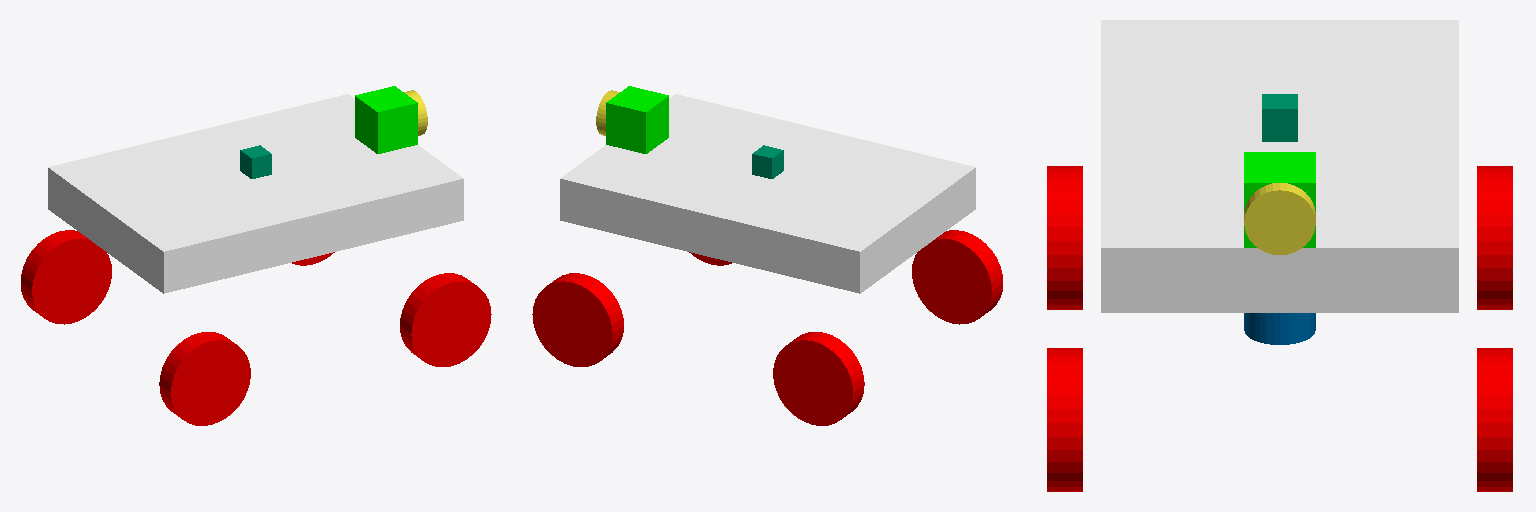
URDF robot description (veerbhadra):
<?xml version="1.0" ?>
<!-- =================================================================================== -->
<!-- |    This document was autogenerated by xacro from veerbhadra.xacro               | -->
<!-- |    EDITING THIS FILE BY HAND IS NOT RECOMMENDED                                 | -->
<!-- =================================================================================== -->
<robot name="veerbhadra">
  <!-- The Frame and its Joint with the World -->
  <link name="base">
    <visual>
      <origin xyz="0 0 0"/>
      <geometry>
        <box size="1.5 1.0 0.2"/>
      </geometry>
      <material name="white">
        <color rgba="1 1 1 1"/>
      </material>
    </visual>
    <collision>
      <origin xyz="0 0 0"/>
      <geometry>
        <box size="1.5 1.0 0.2"/>
      </geometry>
    </collision>
    <inertial>
      <origin xyz="0 0 0"/>
      <mass value="1.0"/>
      <inertia ixx="1.0" ixy="0.0" ixz="0.0" iyy="1.0" iyz="0.0" izz="1.0"/>
    </inertial>
  </link>
  <gazebo reference="base">
    <material>Gazebo/White</material>
  </gazebo>
  <!-- The Head and its Joint with the Frame -->
  <link name="head">
    <visual>
      <origin xyz="0 0 0.1"/>
      <geometry>
        <box size="0.2 0.2 0.2"/>
      </geometry>
      <material name="green">
        <color rgba="0 1 0 1"/>
      </material>
    </visual>
    <collision>
      <origin xyz="0 0 0.1"/>
      <geometry>
        <box size="0.2 0.2 0.2"/>
      </geometry>
    </collision>
    <inertial>
      <origin xyz="0 0 0.1"/>
      <mass value="1.0"/>
      <inertia ixx="1.0" ixy="0.0" ixz="0.0" iyy="1.0" iyz="0.0" izz="1.0"/>
    </inertial>
  </link>
  <joint name="head_joint" type="fixed">
    <origin xyz="0.65 0 0.1"/>
    <parent link="base"/>
    <child link="head"/>
  </joint>
  <gazebo reference="head">
    <material>Gazebo/Green</material>
  </gazebo>
  <!-- The Wheel macro -->
  <gazebo>
    <plugin name="differential_drive_controller" filename="libgazebo_ros_diff_drive.so">
      <update>100</update>
      <updateRate>100.0</updateRate>
      <leftJoint>lb_joint</leftJoint>
      <rightJoint>rb_joint</rightJoint>
      <wheelSeparation>0.6</wheelSeparation>
      <wheelDiameter>0.4</wheelDiameter>
      <torque>5</torque>
      <commandTopic>/veerbhadra/cmd_vel</commandTopic>
      <odometryTopic>/veerbhadra/odom</odometryTopic>
      <odometryFrame>base</odometryFrame>
      <robotBaseFrame>base</robotBaseFrame>
    </plugin>
  </gazebo>
  <!-- The IMU -->
  <joint name="imu_joint" type="fixed">
    <axis xyz="1 0 0"/>
    <origin xyz="0 0 0.15"/>
    <parent link="base"/>
    <child link="imu_link"/>
  </joint>
  <link name="imu_link">
    <inertial>
      <mass value="0.001"/>
      <origin rpy="0 0 0" xyz="0 0 0"/>
      <inertia ixx="0.0001" ixy="0" ixz="0" iyy="0.0001" iyz="0" izz="0.0001"/>
    </inertial>
    <visual>
      <origin rpy="0 0 0" xyz="0 0 0"/>
      <geometry>
        <box size="0.1 0.1 0.1"/>
      </geometry>
    </visual>
    <collision>
      <origin rpy="0 0 0" xyz="0 0 0"/>
      <geometry>
        <box size="0.1 0.1 0.1"/>
      </geometry>
    </collision>
  </link>
  <gazebo>
      <!--<sensor name="imu_sensor" type="imu">
      <imu>
          <noise>
              <type>gaussian</type>
              <rate>
                  <mean>0.0</mean>
                  <stddev>2e-4</stddev>
                  <bias_mean>0.0000075</bias_mean>
                  <bias_stddev>0.0000008</bias_stddev>
              </rate>
          </noise>
      </imu>-->
      <plugin name="imu_controller" filename="libgazebo_ros_imu.so">
          <topicName>/imu/data</topicName>
          <alwaysOn>true</alwaysOn>
          <updateRate>50.0</updateRate>
          <bodyName>imu_link</bodyName>
          <serviceName>/imu/calibrate</serviceName>
          <gaussianNoise>0.000002</gaussianNoise>
      </plugin>
      <!--</sensor>-->
  </gazebo>
  <!-- Front Camera -->
  <link name="front_cam_link">
    <inertial>
      <mass value="0.01"/>
      <origin rpy="0 1.57075 0" xyz="0 0 0"/>
      <inertia ixx="0.001" ixy="0.0" ixz="0.0" iyy="0.001" iyz="0.0" izz="0.001"/>
    </inertial>
    <visual>
      <origin rpy="0 1.57075 0" xyz="0 0 0"/>
      <geometry>
        <cylinder length="0.1" radius="0.1"/>
      </geometry>
    </visual>
    <collision>
      <origin rpy="0 1.57075 0" xyz="0 0 0"/>
      <geometry>
        <cylinder length="0.1" radius="0.1"/>
      </geometry>
    </collision>
  </link>
  <joint name="front_cam_joint" type="fixed">
    <origin rpy="0 0 0" xyz="0.75 0 0.2"/>
    <parent link="base"/>
    <child link="front_cam_link"/>
  </joint>
  <gazebo reference="front_cam_link">
    <sensor name="front_cam_sensor" type="camera">
      <camera name="front_camera">
          <horizontal_fov>1.57079</horizontal_fov>
          <image>
              <width>640</width>
              <height>480</height>
              <format>R8G8B8</format>
          </image>
          <clip>
              <near>0.01</near>
              <far>100</far>
          </clip>
          <noise>
              <type>gaussian</type>
              <mean>-0.2</mean>
              <stddev>0.1</stddev>
          </noise>
      </camera>
      <update_rate>20.0</update_rate>
      <plugin name="front_camera_controller" filename="libgazebo_ros_prosilica.so">
        <cameraName>front_camera</cameraName>
        <alwaysOn>true</alwaysOn>
        <updateRate>20.0</updateRate>
        <imageTopicName>/front_camera/image_raw</imageTopicName>
        <frameName>front_cam_link</frameName>
        <hackBaseline>0.07</hackBaseline>
      </plugin>
    </sensor>
    <turnGravityOff>true</turnGravityOff>
    <material value="Gazebo/Blue"/>
  </gazebo>
  <!-- Bottom Camera -->
  <link name="bottom_cam_link">
    <inertial>
      <mass value="0.01"/>
      <origin rpy="0 1.57075 0" xyz="0 0 0"/>
      <inertia ixx="0.001" ixy="0.0" ixz="0.0" iyy="0.001" iyz="0.0" izz="0.001"/>
    </inertial>
    <visual>
      <origin rpy="0 1.57075 0" xyz="0 0 0"/>
      <geometry>
        <cylinder length="0.1" radius="0.1"/>
      </geometry>
    </visual>
    <collision>
      <origin rpy="0 1.57075 0" xyz="0 0 0"/>
      <geometry>
        <cylinder length="0.1" radius="0.1"/>
      </geometry>
    </collision>
  </link>
  <joint name="bottom_cam_joint" type="fixed">
    <origin rpy="0 1.57075 0" xyz="0.65 0 -0.15"/>
    <parent link="base"/>
    <child link="bottom_cam_link"/>
  </joint>
  <gazebo reference="bottom_cam_link">
    <sensor name="bottom_cam_sensor" type="camera">
      <camera name="bottom_camera">
          <horizontal_fov>1.57079</horizontal_fov>
          <image>
              <width>640</width>
              <height>480</height>
              <format>R8G8B8</format>
          </image>
          <clip>
              <near>0.01</near>
              <far>100</far>
          </clip>
          <noise>
              <type>gaussian</type>
              <mean>-0.2</mean>
              <stddev>0.1</stddev>
          </noise>
      </camera>
      <update_rate>20.0</update_rate>
      <plugin name="bottom_camera_controller" filename="libgazebo_ros_prosilica.so">
        <cameraName>bottom_camera</cameraName>
        <alwaysOn>true</alwaysOn>
        <updateRate>20.0</updateRate>
        <imageTopicName>/bottom_camera/image_raw</imageTopicName>
        <frameName>bottom_cam_link</frameName>
        <hackBaseline>0.07</hackBaseline>
      </plugin>
    </sensor>
    <turnGravityOff>true</turnGravityOff>
    <material value="Gazebo/Blue"/>
  </gazebo>
  <!-- use the Wheel xacro to create the wheels -->
  <link name="lf_link">
    <visual>
      <origin rpy="1.57075 0 0" xyz="0 0 0"/>
      <geometry>
        <cylinder length="0.1" radius="0.2"/>
      </geometry>
      <material name="red">
        <color rgba="1 0 0 1"/>
      </material>
    </visual>
    <collision>
      <origin rpy="1.57075 0 0" xyz="0 0 0"/>
      <geometry>
        <cylinder length="0.1" radius="0.2"/>
      </geometry>
    </collision>
    <inertial>
      <mass value="1.0"/>
      <inertia ixx="1.0" ixy="0.0" ixz="0.0" iyy="1.0" iyz="0.0" izz="1.0"/>
    </inertial>
  </link>
  <gazebo reference="lf_link">
    <material>Gazebo/Red</material>
    <mu1 value="1.0"/>
    <mu2 value="1.0"/>
  </gazebo>
  <joint name="lf_joint" type="continuous">
    <axis xyz="0 1 0"/>
    <origin xyz="0.6 0.6 -0.5"/>
    <parent link="base"/>
    <child link="lf_link"/>
  </joint>
  <link name="lb_link">
    <visual>
      <origin rpy="1.57075 0 0" xyz="0 0 0"/>
      <geometry>
        <cylinder length="0.1" radius="0.2"/>
      </geometry>
      <material name="red">
        <color rgba="1 0 0 1"/>
      </material>
    </visual>
    <collision>
      <origin rpy="1.57075 0 0" xyz="0 0 0"/>
      <geometry>
        <cylinder length="0.1" radius="0.2"/>
      </geometry>
    </collision>
    <inertial>
      <mass value="1.0"/>
      <inertia ixx="1.0" ixy="0.0" ixz="0.0" iyy="1.0" iyz="0.0" izz="1.0"/>
    </inertial>
  </link>
  <gazebo reference="lb_link">
    <material>Gazebo/Red</material>
    <mu1 value="1.0"/>
    <mu2 value="1.0"/>
  </gazebo>
  <joint name="lb_joint" type="continuous">
    <axis xyz="0 1 0"/>
    <origin xyz="-0.6 0.6 -0.5"/>
    <parent link="base"/>
    <child link="lb_link"/>
  </joint>
  <link name="rf_link">
    <visual>
      <origin rpy="1.57075 0 0" xyz="0 0 0"/>
      <geometry>
        <cylinder length="0.1" radius="0.2"/>
      </geometry>
      <material name="red">
        <color rgba="1 0 0 1"/>
      </material>
    </visual>
    <collision>
      <origin rpy="1.57075 0 0" xyz="0 0 0"/>
      <geometry>
        <cylinder length="0.1" radius="0.2"/>
      </geometry>
    </collision>
    <inertial>
      <mass value="1.0"/>
      <inertia ixx="1.0" ixy="0.0" ixz="0.0" iyy="1.0" iyz="0.0" izz="1.0"/>
    </inertial>
  </link>
  <gazebo reference="rf_link">
    <material>Gazebo/Red</material>
    <mu1 value="1.0"/>
    <mu2 value="1.0"/>
  </gazebo>
  <joint name="rf_joint" type="continuous">
    <axis xyz="0 1 0"/>
    <origin xyz="0.6 -0.6 -0.5"/>
    <parent link="base"/>
    <child link="rf_link"/>
  </joint>
  <link name="rb_link">
    <visual>
      <origin rpy="1.57075 0 0" xyz="0 0 0"/>
      <geometry>
        <cylinder length="0.1" radius="0.2"/>
      </geometry>
      <material name="red">
        <color rgba="1 0 0 1"/>
      </material>
    </visual>
    <collision>
      <origin rpy="1.57075 0 0" xyz="0 0 0"/>
      <geometry>
        <cylinder length="0.1" radius="0.2"/>
      </geometry>
    </collision>
    <inertial>
      <mass value="1.0"/>
      <inertia ixx="1.0" ixy="0.0" ixz="0.0" iyy="1.0" iyz="0.0" izz="1.0"/>
    </inertial>
  </link>
  <gazebo reference="rb_link">
    <material>Gazebo/Red</material>
    <mu1 value="1.0"/>
    <mu2 value="1.0"/>
  </gazebo>
  <joint name="rb_joint" type="continuous">
    <axis xyz="0 1 0"/>
    <origin xyz="-0.6 -0.6 -0.5"/>
    <parent link="base"/>
    <child link="rb_link"/>
  </joint>
</robot>

--- Render facts (derived) ---
The picture shows the robot from 3 angles, left to right: view 1: azimuth 30°, elevation 25°; view 2: azimuth 150°, elevation 25°; view 3: azimuth 270°, elevation 25°; orthographic projection.
Robot: veerbhadra — 9 links, 8 joints (4 continuous, 4 fixed); root link base; default pose: every joint at zero.
Visible links, largest first — view 1: base, rb_link, rf_link, lb_link, head, imu_link; view 2: base, lb_link, lf_link, rb_link, head, imu_link; view 3: base, lf_link, lb_link, rf_link, rb_link, front_cam_link, head, bottom_cam_link, imu_link.
Boxes of the visible links, x1,y1,x2,y2 form: base: (48, 94, 463, 293); rb_link: (159, 332, 250, 425); rf_link: (400, 273, 491, 366); lb_link: (21, 230, 111, 324); head: (355, 86, 417, 153); imu_link: (240, 145, 271, 178); base: (560, 94, 975, 293); lb_link: (773, 332, 864, 425); lf_link: (532, 273, 623, 366); rb_link: (912, 230, 1002, 324); head: (606, 86, 668, 153); imu_link: (752, 145, 783, 178); base: (1101, 20, 1458, 312); lf_link: (1477, 348, 1512, 491); lb_link: (1477, 166, 1512, 309); rf_link: (1047, 348, 1082, 491); rb_link: (1047, 166, 1082, 309); front_cam_link: (1244, 183, 1315, 254); head: (1244, 152, 1315, 247); bottom_cam_link: (1244, 313, 1315, 344); imu_link: (1262, 94, 1297, 141).
Size in the robot's own frame: 1.6 by 1.3 by 1 metres.
Geometry: primitives only (box / cylinder / sphere), no mesh files.
